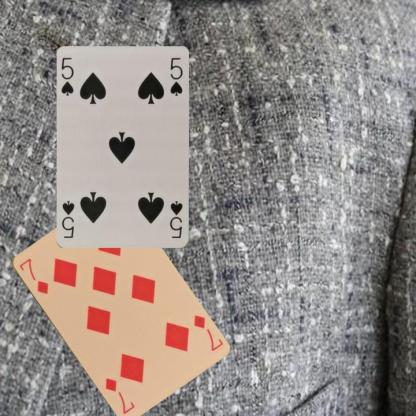5s: (167, 198, 184, 240), (58, 56, 75, 98)
7d: (16, 256, 50, 296), (190, 312, 224, 352)
